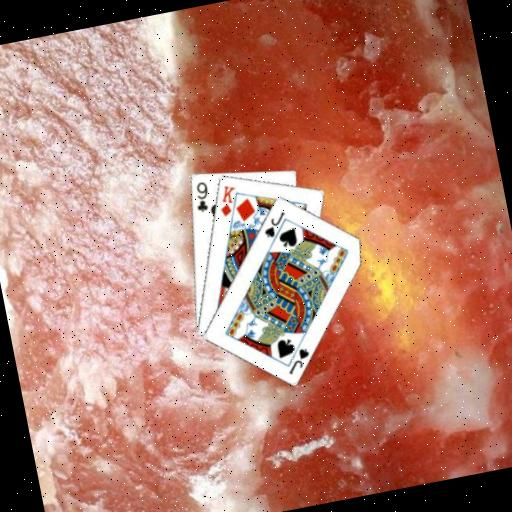9C: (189, 177, 214, 215)
JS: (282, 344, 314, 377), (258, 208, 290, 240)
KD: (212, 180, 241, 219)
